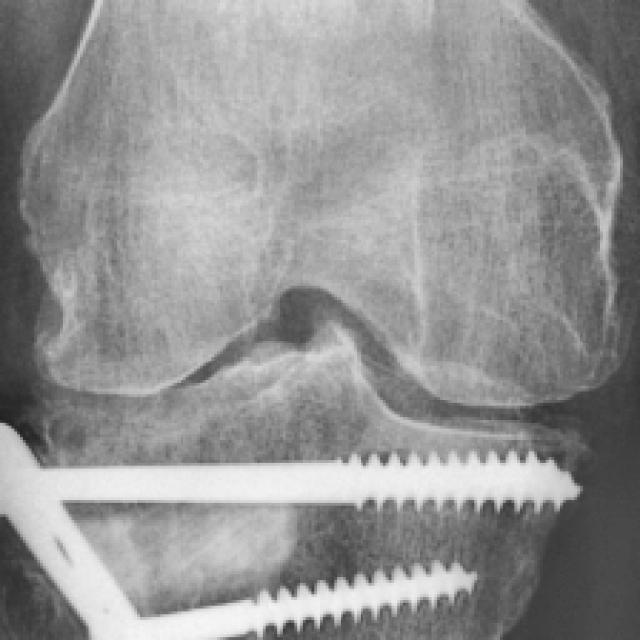femur: (17, 0, 623, 410)
tibia: (0, 318, 593, 640)
